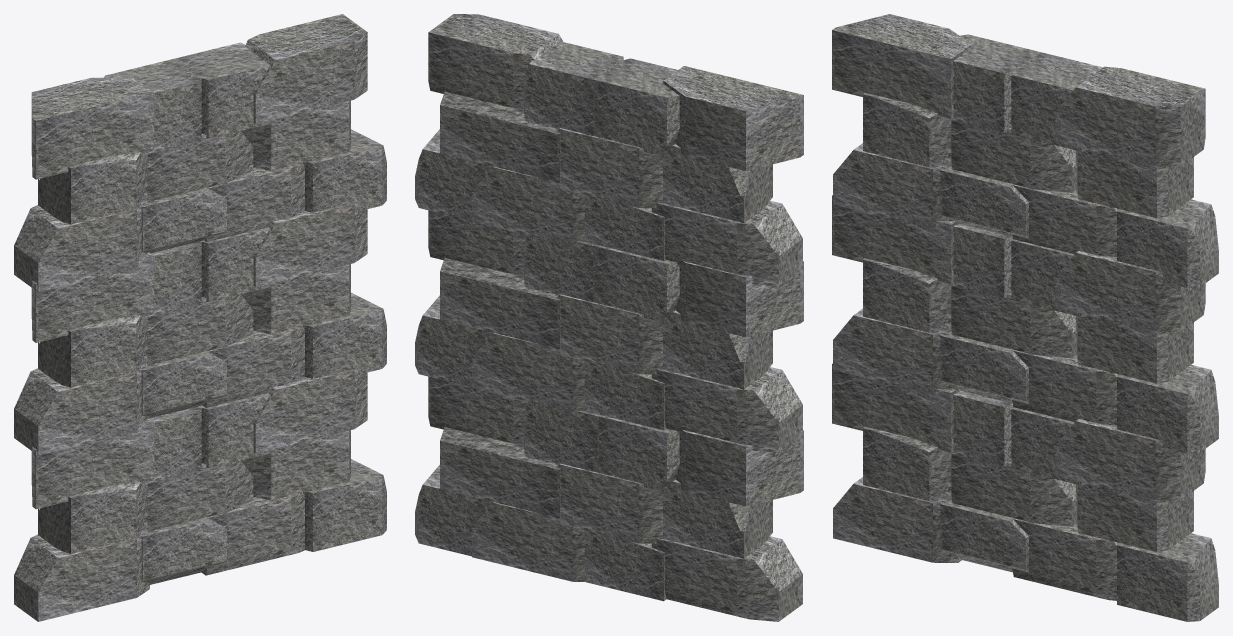
File: CastleDoorBarrier.obj
3 renders of one model, left to right at view 1: azimuth 30°, elevation 25°; view 2: azimuth 150°, elevation 25°; view 3: azimuth 330°, elevation 25°, orthographic.
Parts seen in each view (by area): view 1: pCube139; view 2: pCube139; view 3: pCube139.
Boxes of the visible parts, bbox=[...] form: pCube139: bbox=[14, 14, 386, 621]; pCube139: bbox=[415, 14, 803, 621]; pCube139: bbox=[832, 14, 1218, 621].
Size of the model in its own units: 3.08 by 4.15 by 0.5463.
